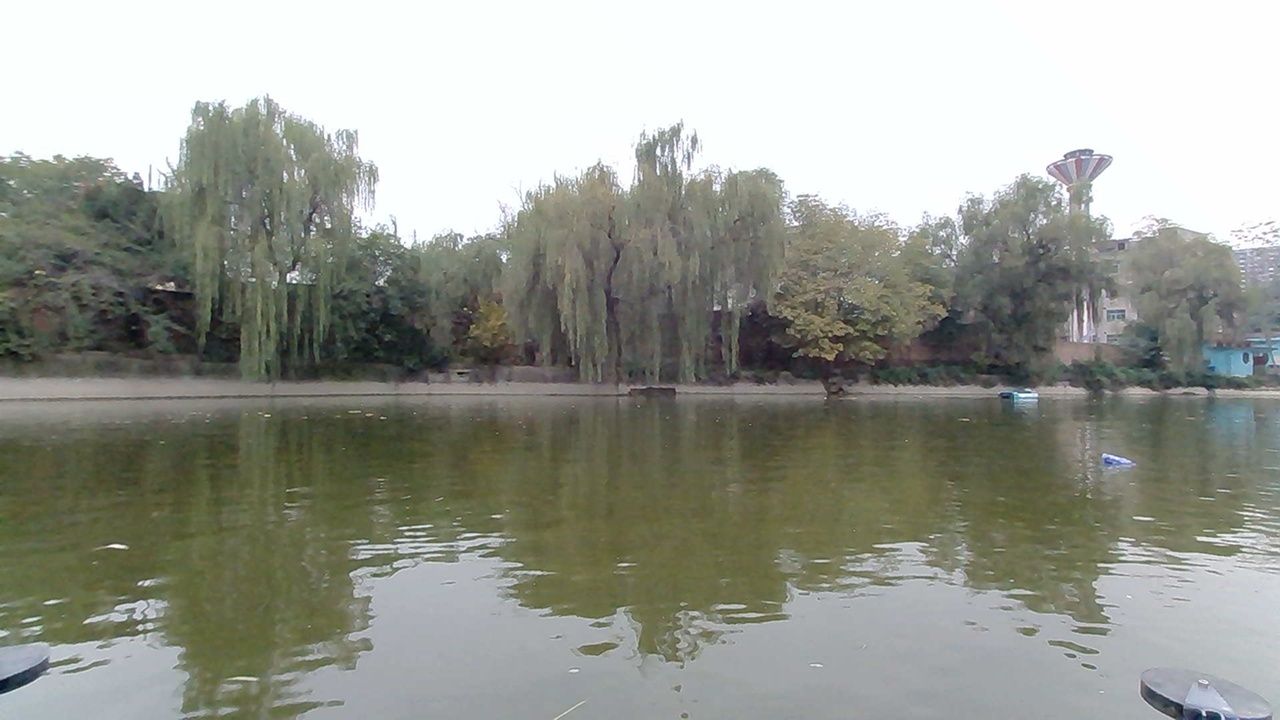bottle: (1091, 446, 1136, 480)
